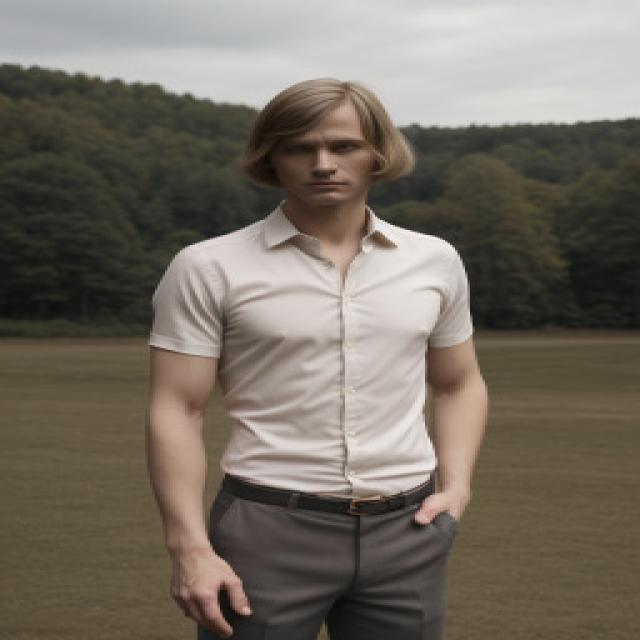Ai human 2: (134, 71, 516, 640)
